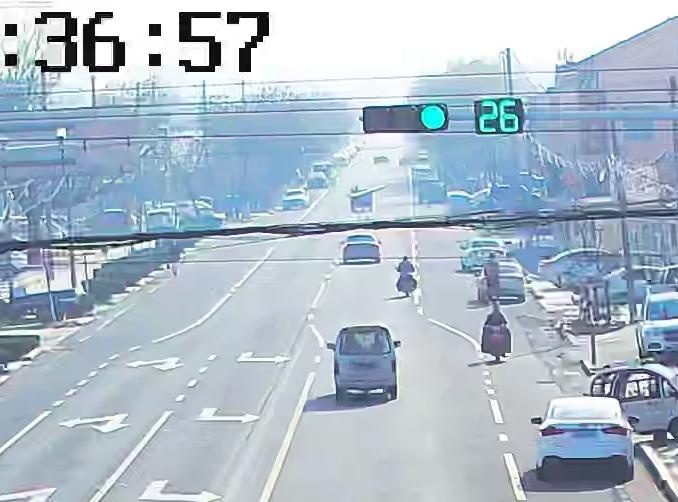green: (416, 106, 452, 132)
greentime: (478, 98, 520, 134)
